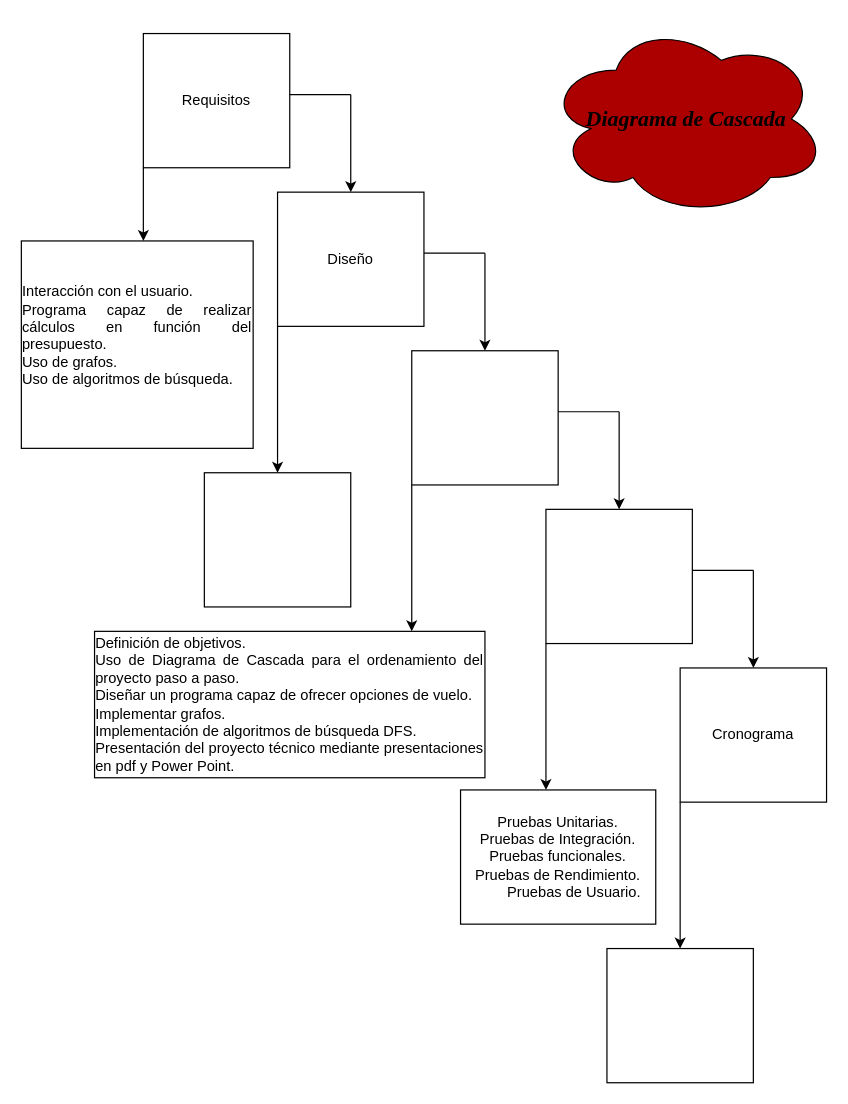
Some shapes in this 848 by 1104 pixel diagram are drawn without their labels. Each missing label, with the centre of its shape:
"Desarrollo" goes at (x=484, y=417).
"Presentación en VSC. Documentación en archivos .pdf,.dox,.pptx." goes at (x=277, y=539).
"Pruebas" goes at (x=618, y=576).
